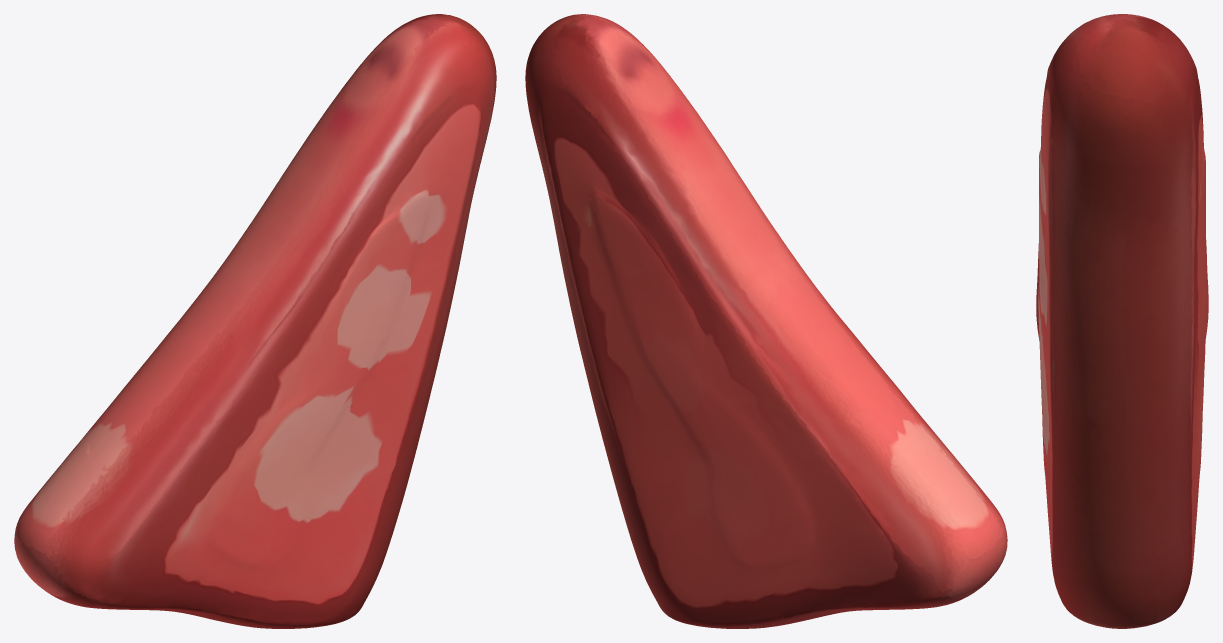
The model's file is starfish.glb.
3 views of the same model, side by side, from view 1: azimuth 30°, elevation 25°; view 2: azimuth 150°, elevation 25°; view 3: azimuth 270°, elevation 25° (orthographic). The views are drawn at different scales.
Size of the model in its own units: 1.8 by 2.1 by 0.4919.
Materials: 1 (1 with a texture image).
